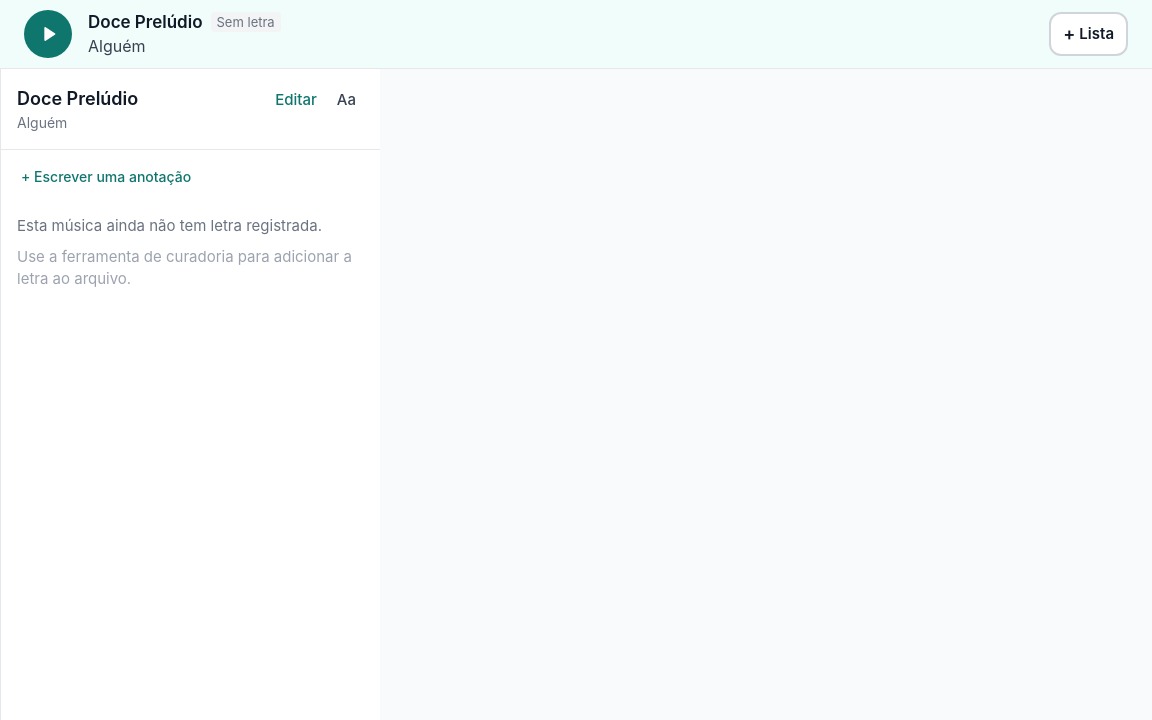
Scenario: SongList (F1 UI / F2 / F3) › marcar 'Esta música é instrumental' no editor troca o selo da linha sem recarregar
Check: the text "Sem letra" is shown, box left=210, top=12, right=281, bottom=32
Click the button "Editar" at (296, 100), box left=267, top=85, right=325, bottom=116
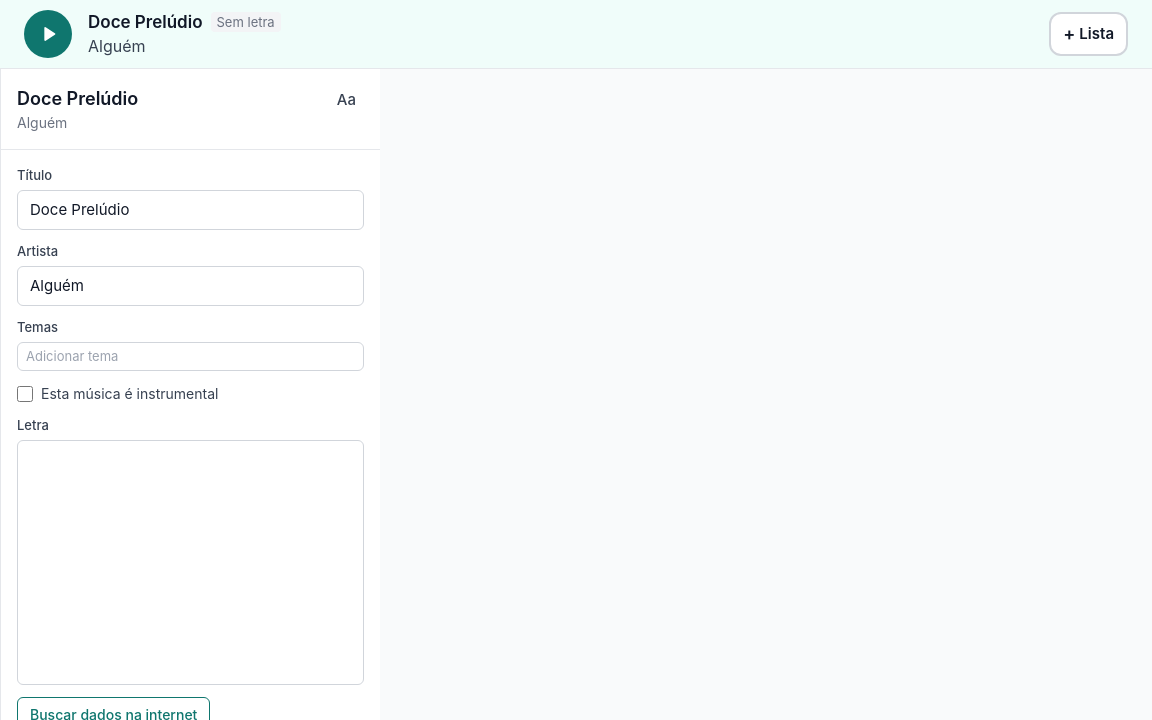
Click the checkbox labelled "Esta música é instrumental" at (25, 394), box left=17, top=386, right=33, bottom=402
(page scrolled)
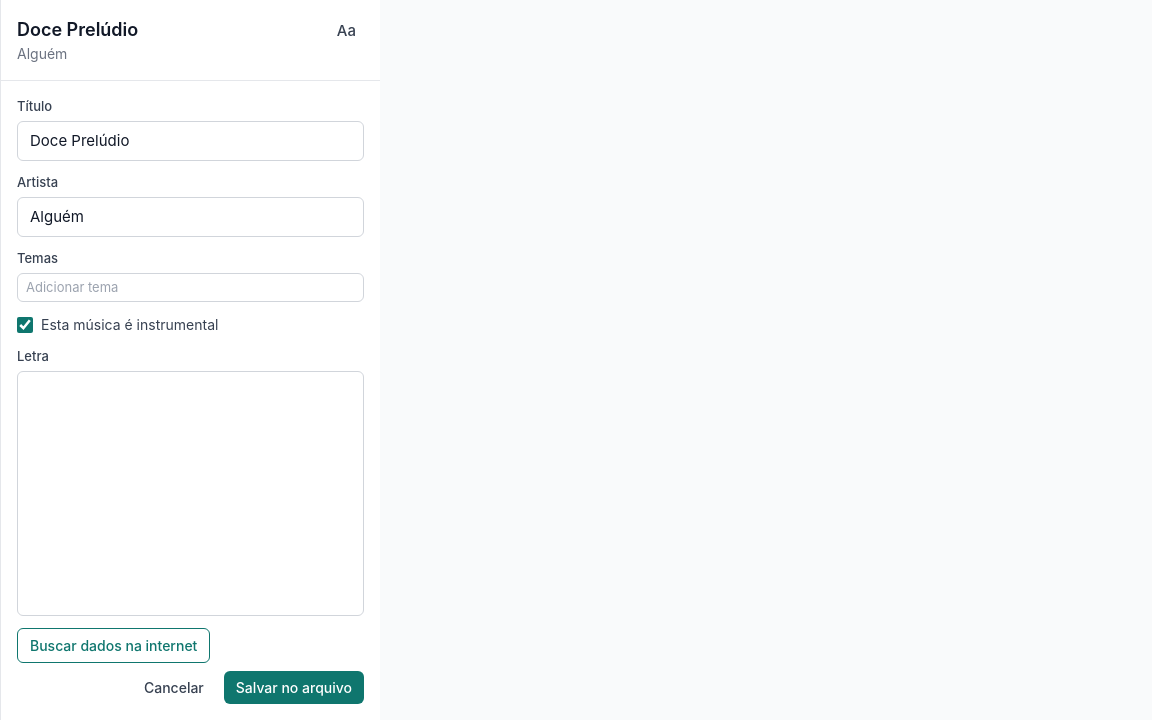
Click the button "Salvar no arquivo" at (294, 688), box left=224, top=671, right=364, bottom=704
(page scrolled)
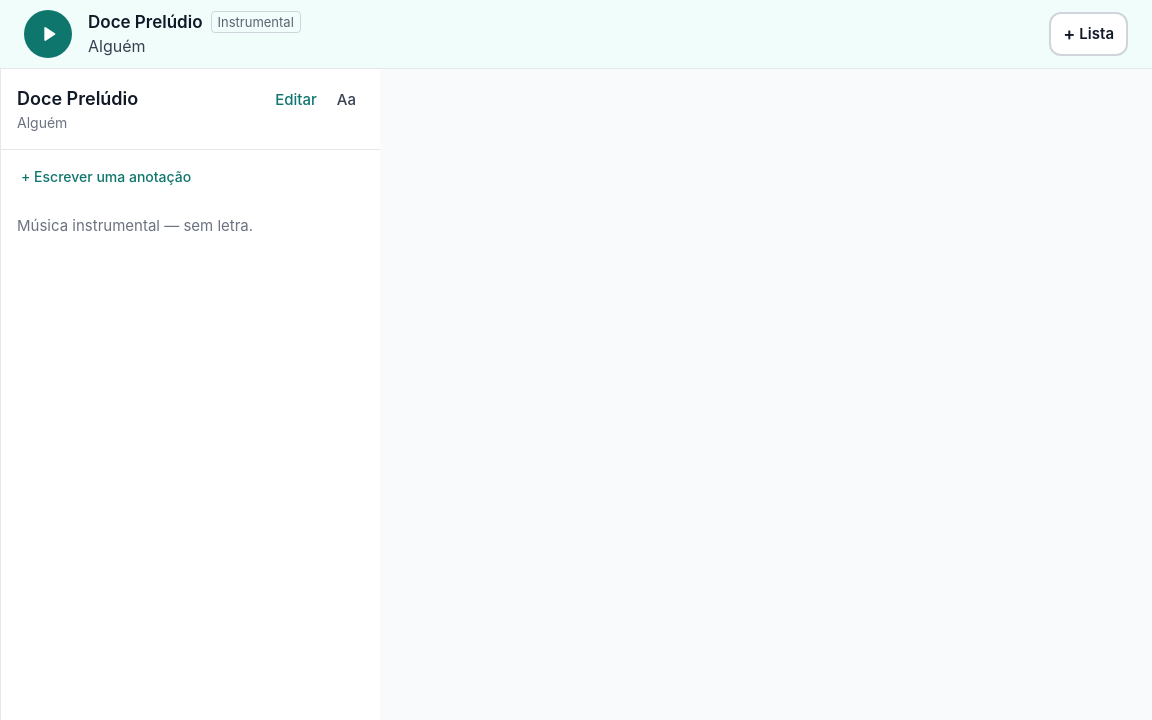
Check: the text "Instrumental" is shown, box left=210, top=11, right=301, bottom=33
